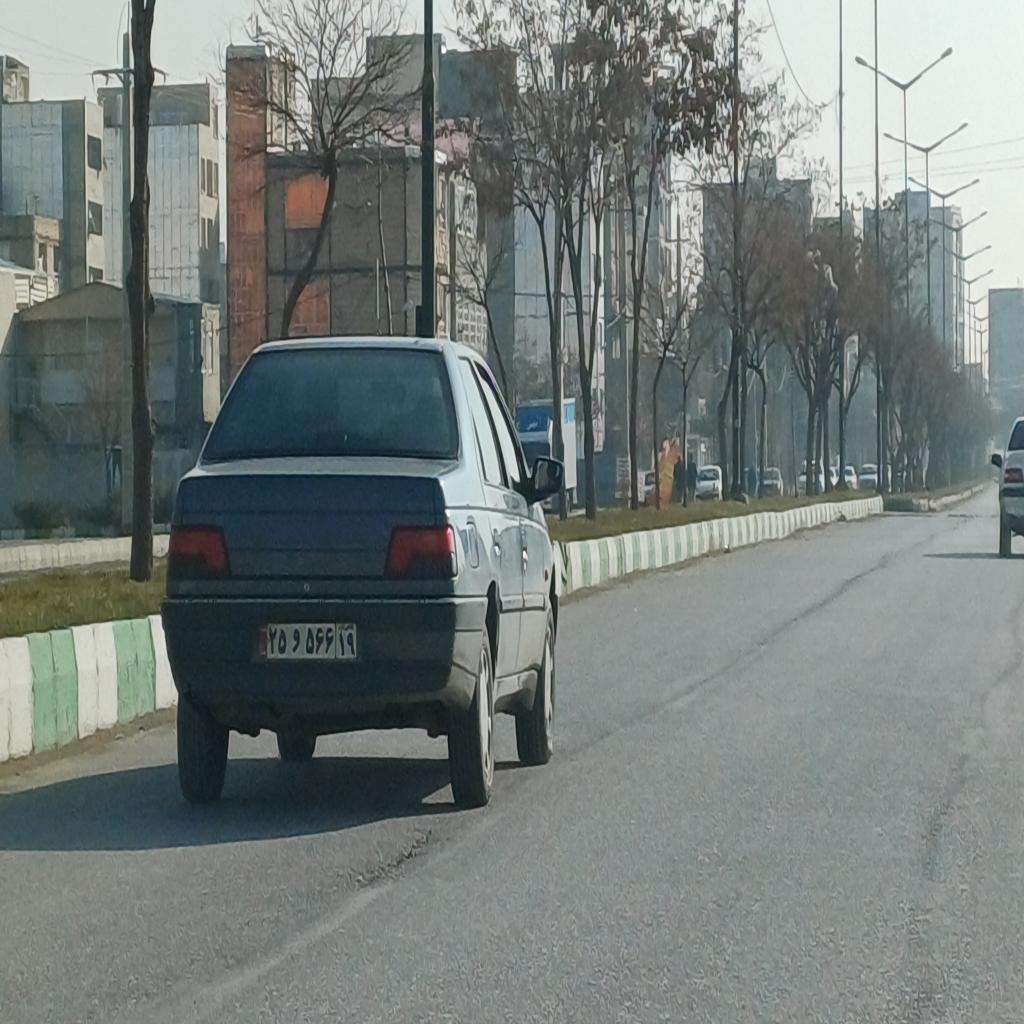Plates: (256, 621, 356, 662)
